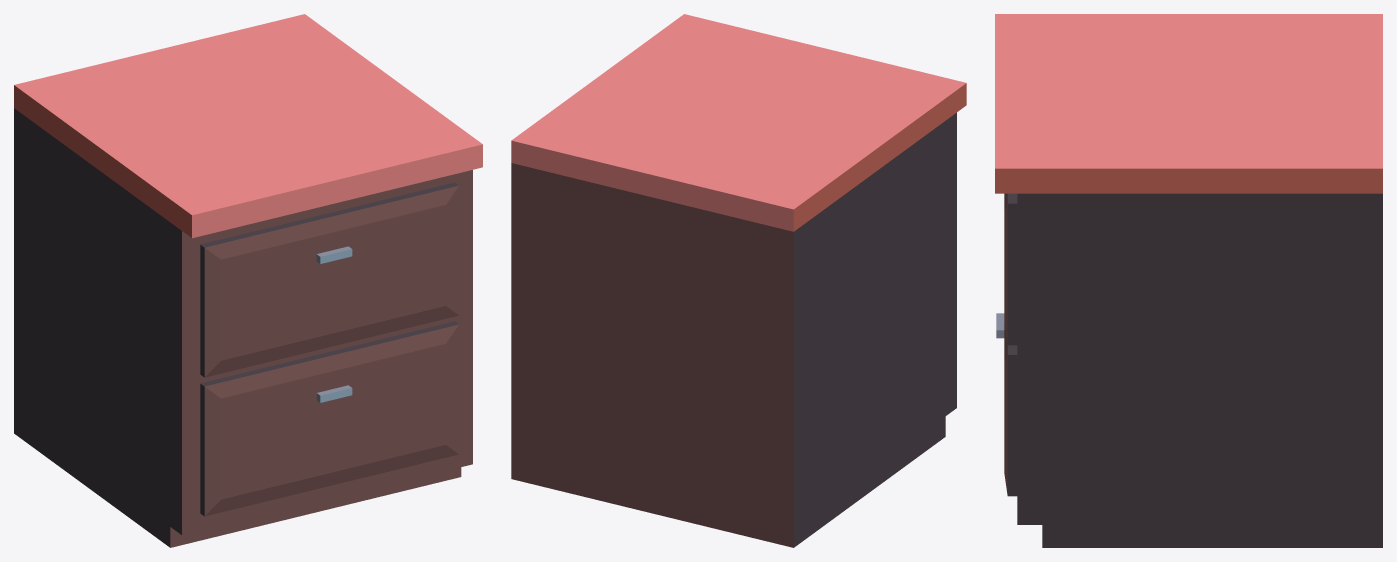
File: Kitchen Cabinet v2.fbx
3 renders of one model, left to right at view 1: azimuth 30°, elevation 25°; view 2: azimuth 150°, elevation 25°; view 3: azimuth 270°, elevation 25°, orthographic. The views are drawn at different scales.
Parts seen in each view (by area): view 1: Kitchen Cabinet v2; view 2: Kitchen Cabinet v2; view 3: Kitchen Cabinet v2.
Part boxes in pixels (x1,y1,x2,y2): Kitchen Cabinet v2: [14, 14, 482, 547]; Kitchen Cabinet v2: [511, 14, 966, 547]; Kitchen Cabinet v2: [995, 14, 1382, 547].
Bounding box in the file's own units: 200 × 229 × 212.
